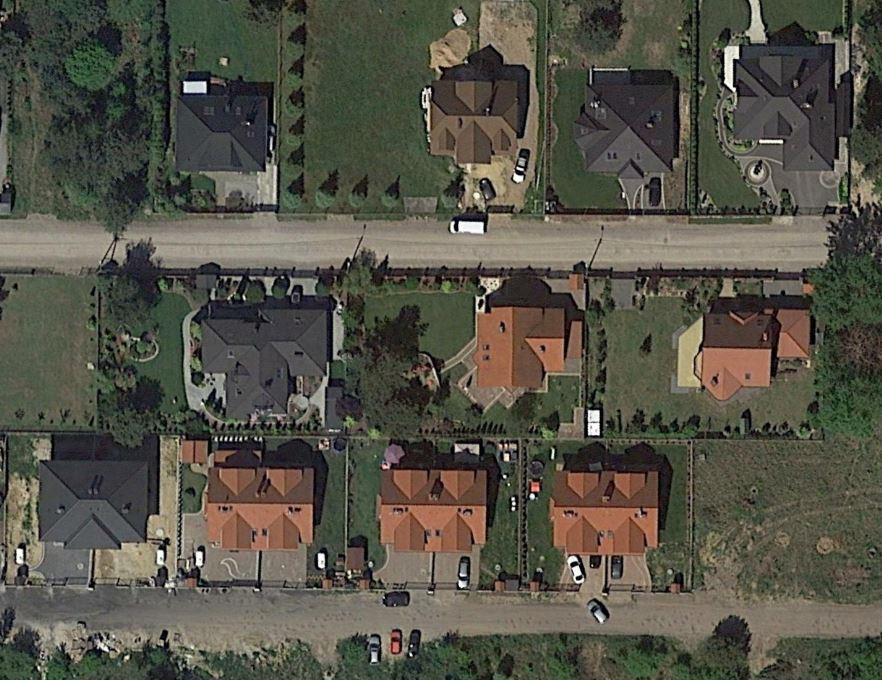family house: (191, 302, 337, 420), (721, 49, 848, 179), (699, 307, 815, 403), (573, 82, 678, 182), (423, 76, 525, 170), (474, 301, 572, 394), (172, 90, 270, 178)
terrace house: (546, 463, 666, 562), (33, 456, 153, 552), (203, 460, 319, 554), (375, 465, 493, 553)
